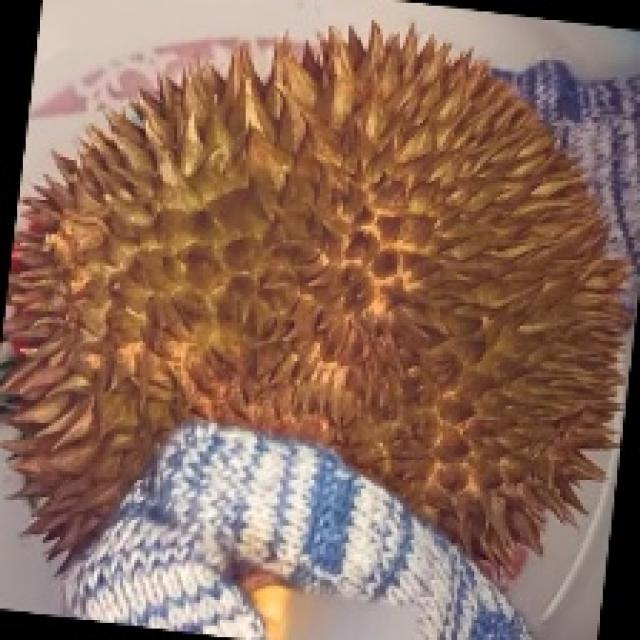d101: (32, 54, 596, 542)
